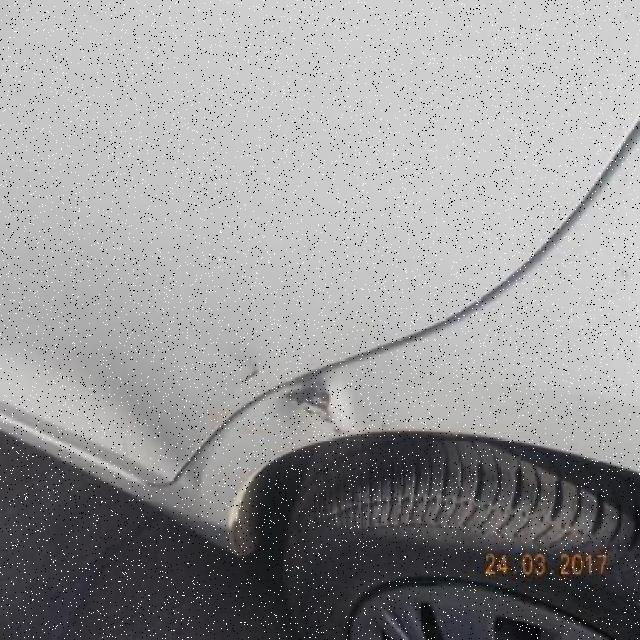damage: (289, 387, 336, 426)
